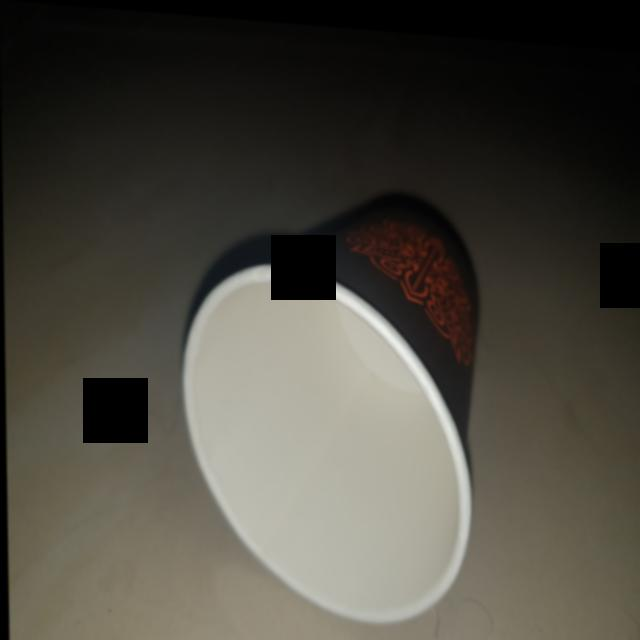cups: (176, 181, 485, 631)
